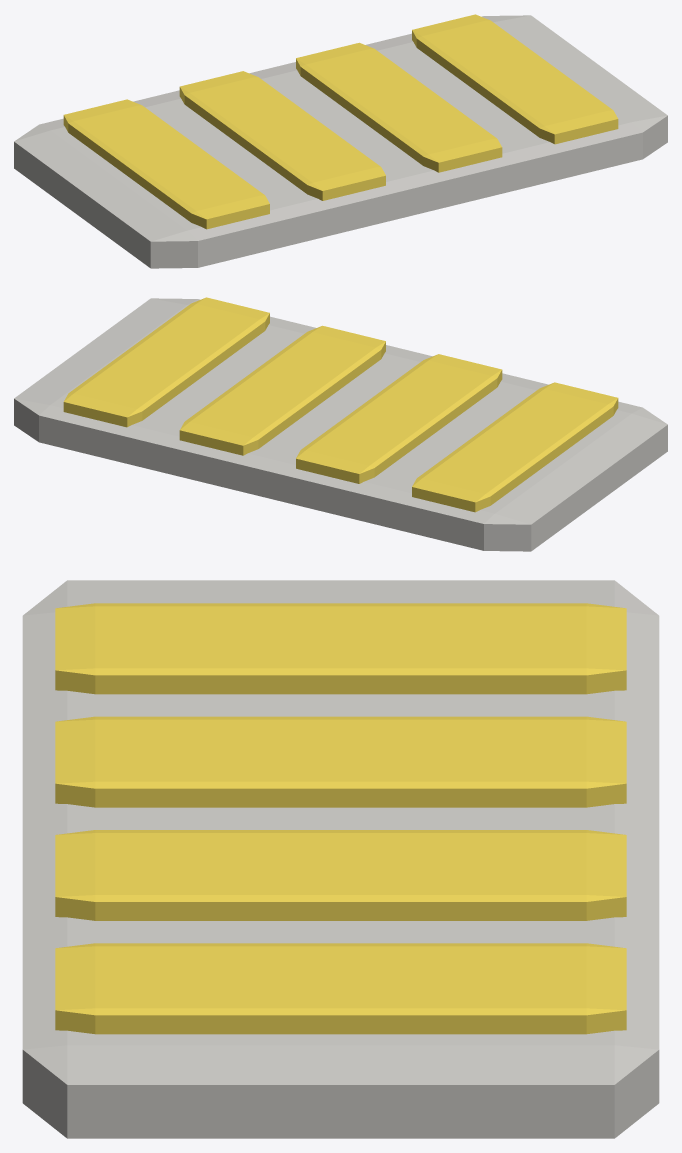
Rendered from b13_truncated_dome_warning_panel.glb.
The picture shows the model from 3 angles, top to bottom: view 1: azimuth 30°, elevation 25°; view 2: azimuth 150°, elevation 25°; view 3: azimuth 270°, elevation 25°; orthographic projection. The views are drawn at different scales.
Parts seen in each view (by area): view 1: b13_truncated_dome_warning_panel; view 2: b13_truncated_dome_warning_panel; view 3: b13_truncated_dome_warning_panel.
Boxes of the visible parts, x1=… form: b13_truncated_dome_warning_panel: x1=14, y1=14, x2=667, y2=268; b13_truncated_dome_warning_panel: x1=14, y1=297, x2=667, y2=551; b13_truncated_dome_warning_panel: x1=22, y1=580, x2=659, y2=1138.
Size of the model in its own units: 1.22 by 0.094 by 0.65.
